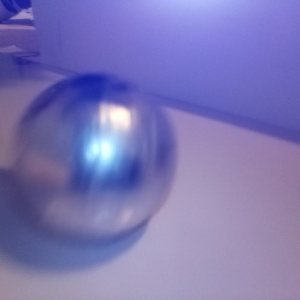alive_ball: (14, 74, 175, 241)
